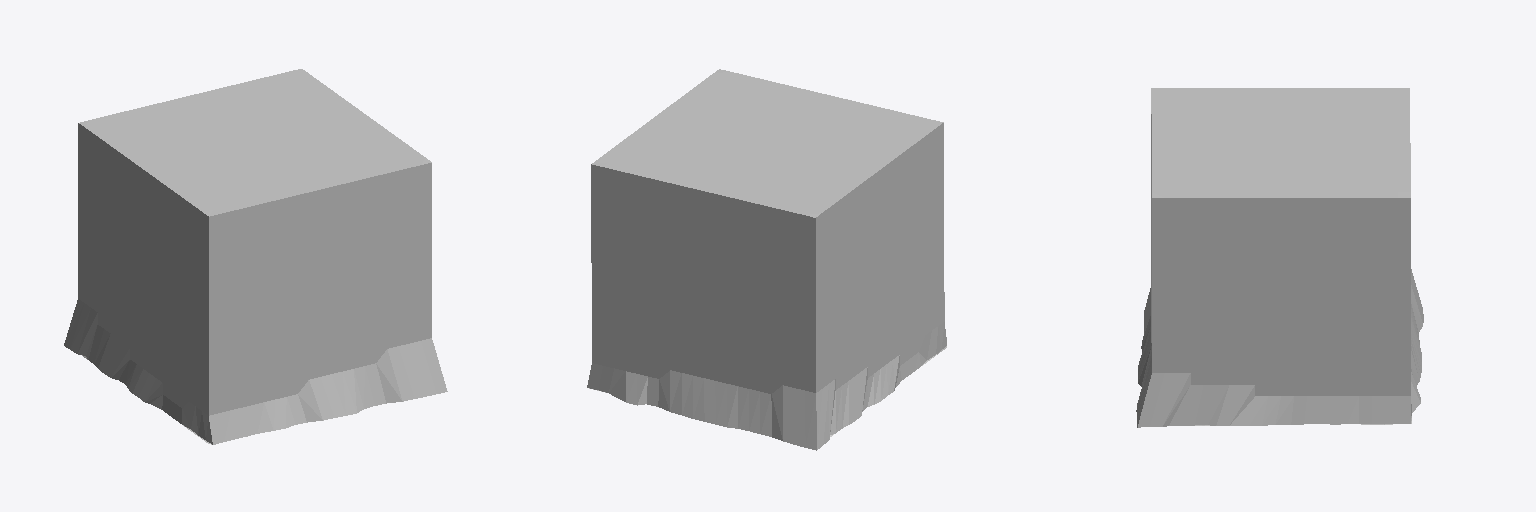
The model's file is mod0222.obj.
The picture shows the model from 3 angles: view 1: azimuth 30°, elevation 25°; view 2: azimuth 150°, elevation 25°; view 3: azimuth 270°, elevation 25°; orthographic projection.
Visible parts, largest first — view 1: Box001; view 2: Box001; view 3: Box001.
Part boxes in pixels (bbox=[...]): Box001: bbox=[64, 69, 447, 444]; Box001: bbox=[587, 69, 946, 450]; Box001: bbox=[1136, 88, 1423, 427].
Size of the model in its own units: 0.5799 by 0.522 by 0.5979.